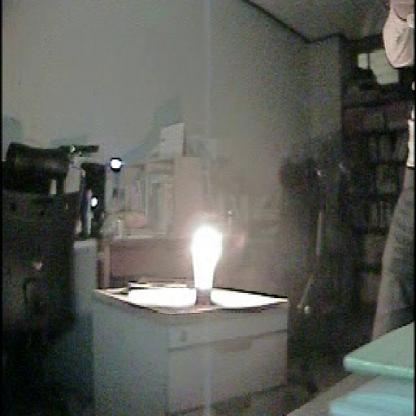fire: (160, 207, 241, 310)
